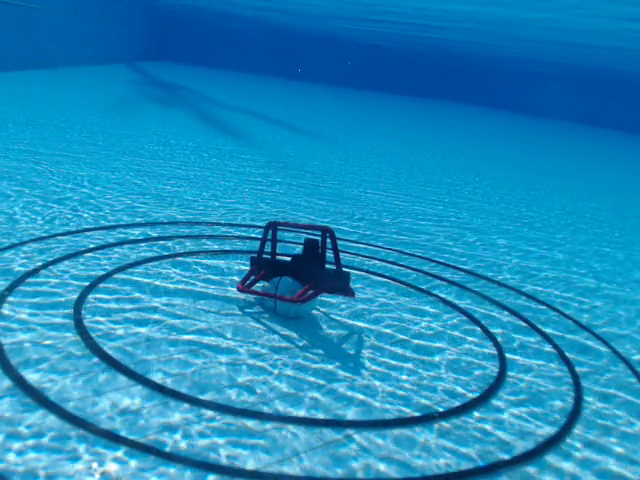submarine: (235, 218, 358, 307)
